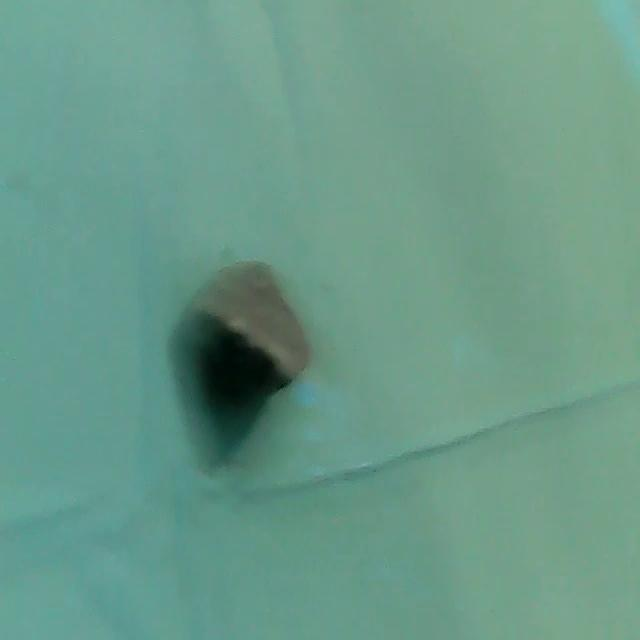rock: (176, 255, 319, 421)
